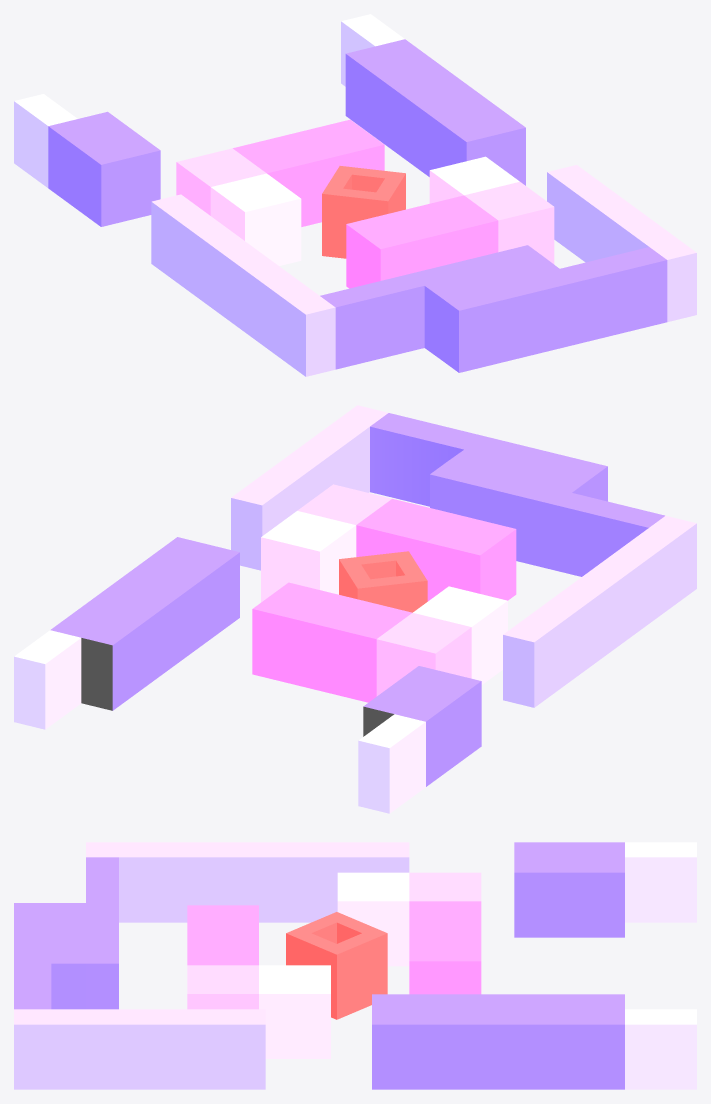
File: disparoglow_01.fbx
3 views of the same model, one above another, from view 1: azimuth 30°, elevation 25°; view 2: azimuth 150°, elevation 25°; view 3: azimuth 270°, elevation 25° (orthographic). The views are drawn at different scales.
Visible parts, largest first — view 1: polySurface186; view 2: polySurface186; view 3: polySurface186.
Boxes of the visible parts, bbox=[...] form: polySurface186: bbox=[14, 14, 696, 376]; polySurface186: bbox=[14, 405, 696, 813]; polySurface186: bbox=[14, 842, 696, 1089].
Bounding box in the file's own units: 6 × 1 × 9.5.
